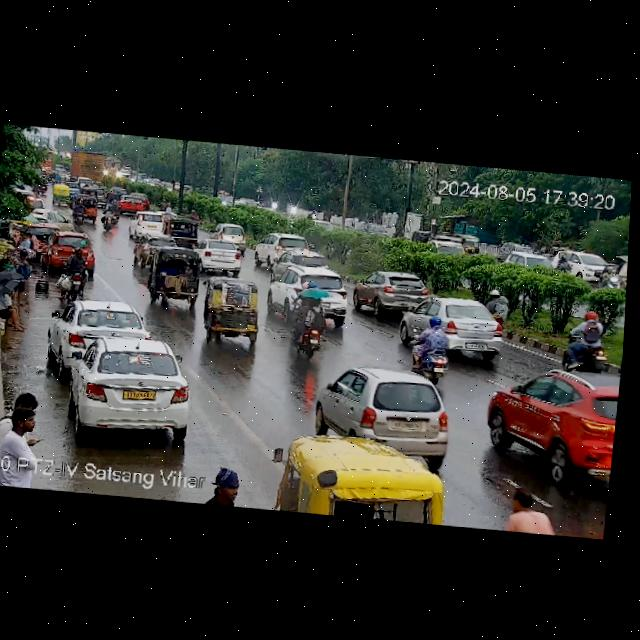car: (472, 360, 621, 486), (270, 430, 445, 525), (320, 364, 463, 462), (64, 333, 197, 438), (394, 294, 503, 355), (495, 365, 617, 419), (50, 296, 147, 363), (193, 274, 266, 346), (263, 266, 354, 314), (143, 246, 206, 314), (354, 267, 434, 316), (41, 230, 100, 270), (270, 244, 329, 282), (254, 230, 310, 270), (125, 232, 180, 269), (190, 239, 245, 275), (552, 249, 602, 279), (24, 206, 77, 231), (129, 210, 169, 235), (168, 219, 202, 246), (118, 192, 151, 216), (218, 224, 249, 245), (73, 200, 100, 224), (51, 183, 76, 206), (466, 235, 485, 256), (108, 186, 127, 201)
motorcycle: (283, 278, 338, 359), (562, 310, 616, 370), (407, 312, 457, 376), (503, 487, 559, 536), (56, 245, 89, 300), (100, 206, 119, 232), (70, 201, 89, 224), (601, 267, 619, 291), (70, 192, 95, 209), (81, 183, 104, 198), (555, 256, 571, 272), (158, 199, 174, 211), (186, 209, 200, 220)
person: (0, 391, 45, 447), (208, 466, 245, 508), (0, 287, 33, 332), (11, 250, 33, 305), (15, 227, 38, 254)
truck: (70, 151, 131, 186), (414, 231, 465, 258)
